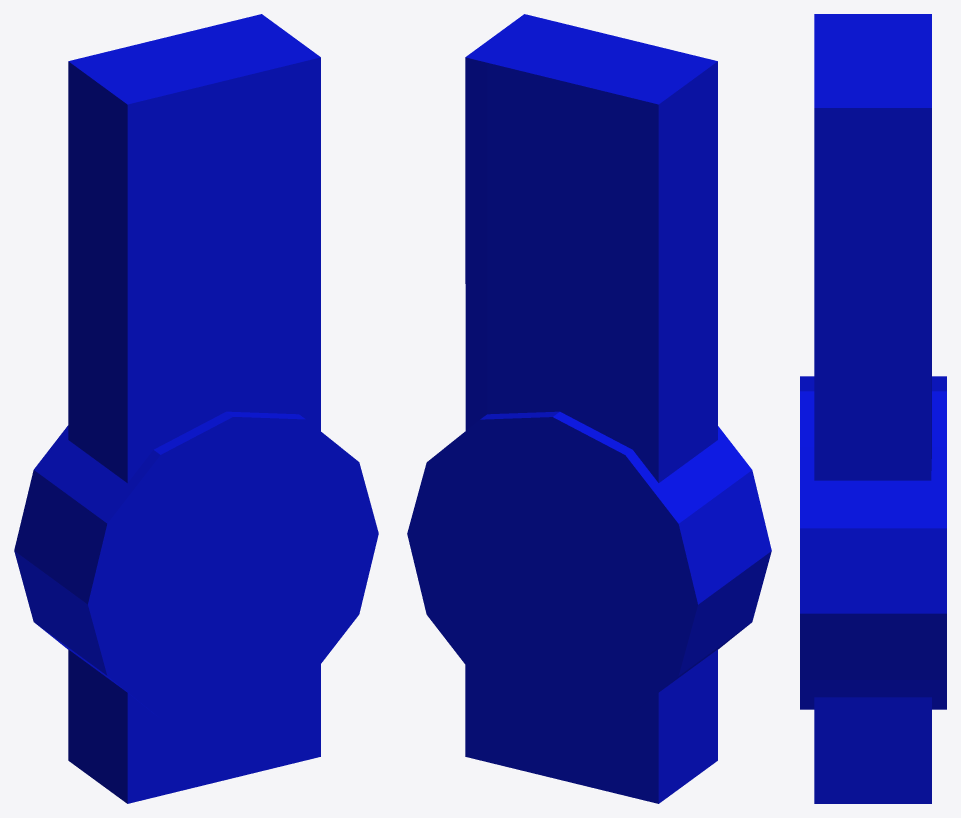
The model's file is Juguete_Azul.fbx.
The picture shows the model from 3 angles, left to right: view 1: azimuth 30°, elevation 25°; view 2: azimuth 150°, elevation 25°; view 3: azimuth 270°, elevation 25°; orthographic projection.
Visible parts, largest first — view 1: Juguete_1; view 2: Juguete_1; view 3: Juguete_1.
Boxes of the visible parts, x1=… form: Juguete_1: x1=14, y1=14, x2=378, y2=803; Juguete_1: x1=407, y1=14, x2=771, y2=803; Juguete_1: x1=800, y1=14, x2=946, y2=803.
Bounding box in the file's own units: 11.74 × 26.97 × 5.15.
